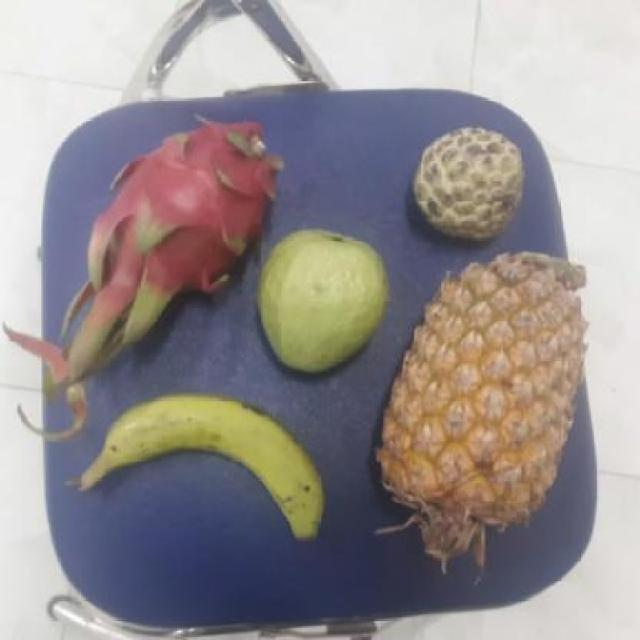banana: (77, 393, 321, 532)
dragon fruit: (86, 120, 276, 305)
guava: (252, 229, 390, 373)
pineapple: (374, 255, 581, 523)
sugar apple: (408, 128, 524, 240)
